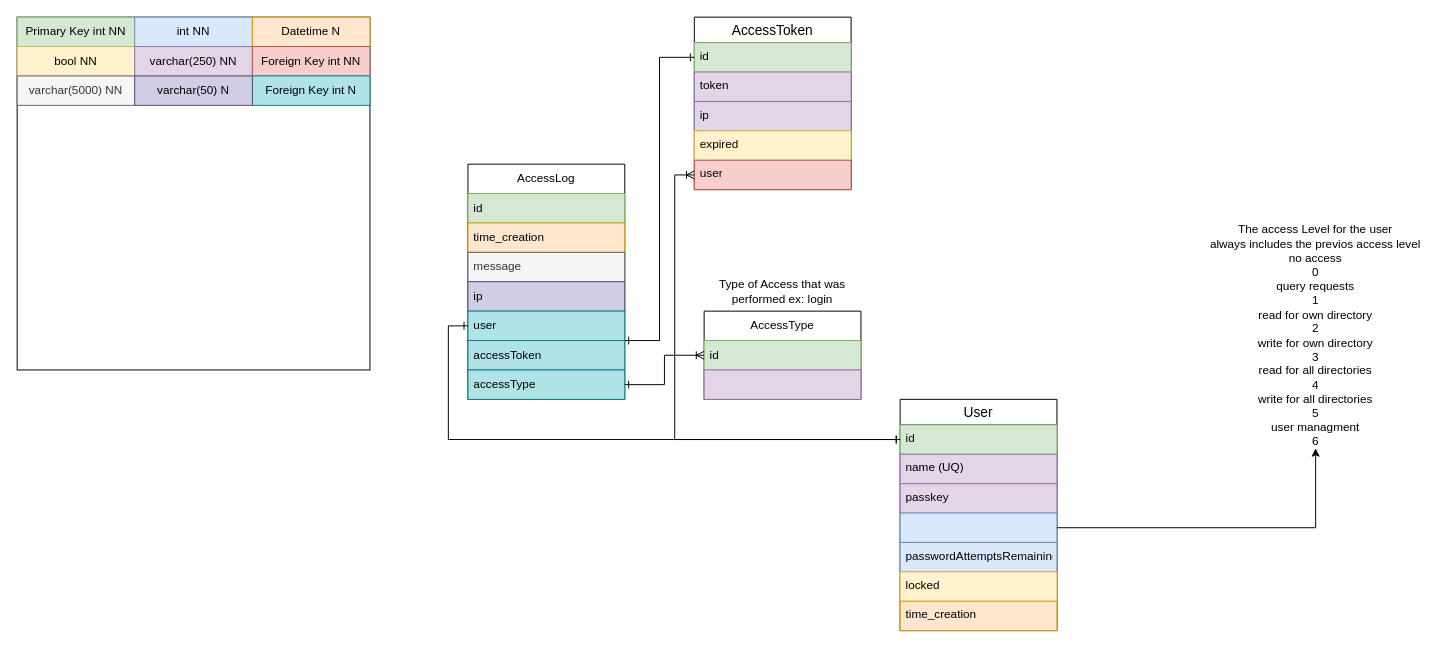
This 1446x651 diagram has some shape labels left out. The shapes that lost their labels are listed below. From the top down, each one's centre as x and y in pixels, then its label:
pixel 782 384: type
pixel 978 527: accessLevel
